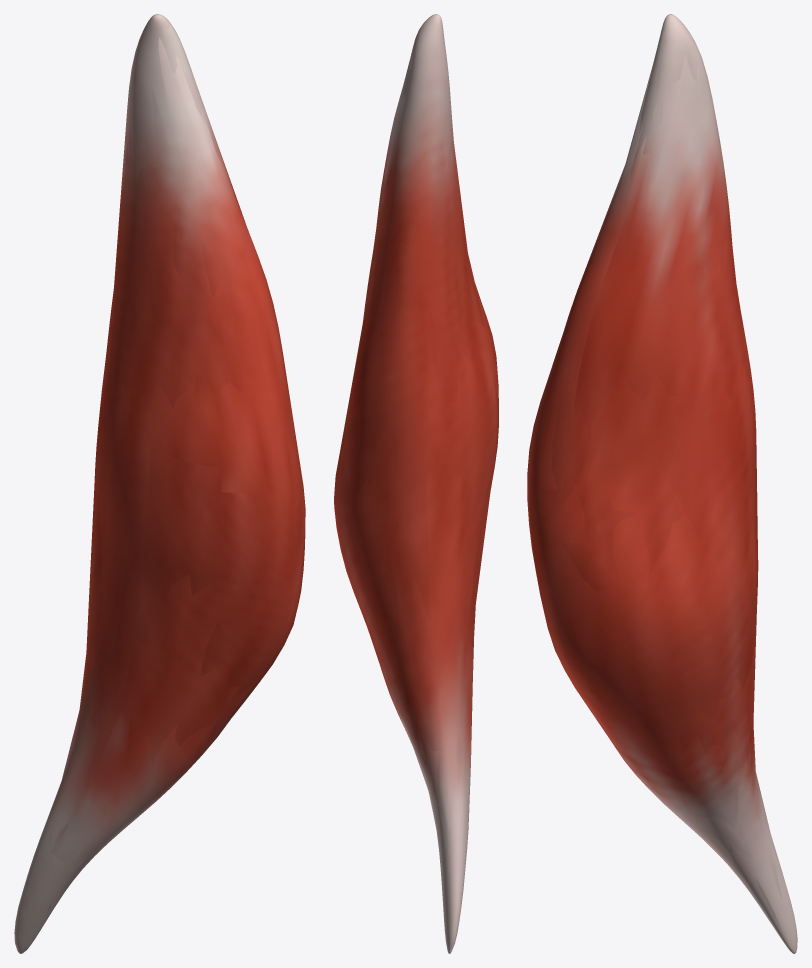
The model's file is L Brachialis.fbx.
The picture shows the model from 3 angles, left to right: view 1: azimuth 30°, elevation 25°; view 2: azimuth 150°, elevation 25°; view 3: azimuth 270°, elevation 25°; orthographic projection. The views are drawn at different scales.
Visible parts, largest first — view 1: L Brachialis, L Brachialis low; view 2: L Brachialis, L Brachialis low; view 3: L Brachialis, L Brachialis low.
Boxes of the visible parts, left/top/right/bottom form: L Brachialis: left=14, top=14, right=305, bottom=953; L Brachialis low: left=25, top=33, right=303, bottom=951; L Brachialis: left=334, top=14, right=498, bottom=953; L Brachialis low: left=335, top=24, right=490, bottom=903; L Brachialis: left=527, top=14, right=797, bottom=953; L Brachialis low: left=527, top=23, right=787, bottom=932.
Bounding box in the file's own units: 8.49 × 39.74 × 9.97.
